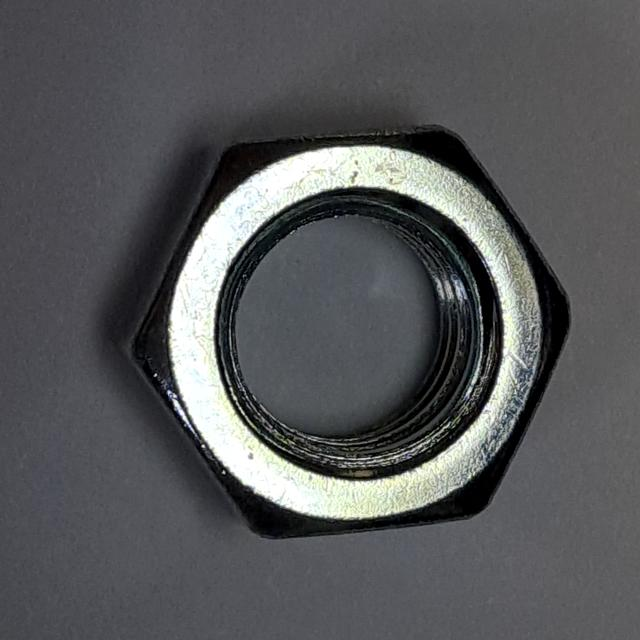Excellent: (94, 106, 581, 556)
